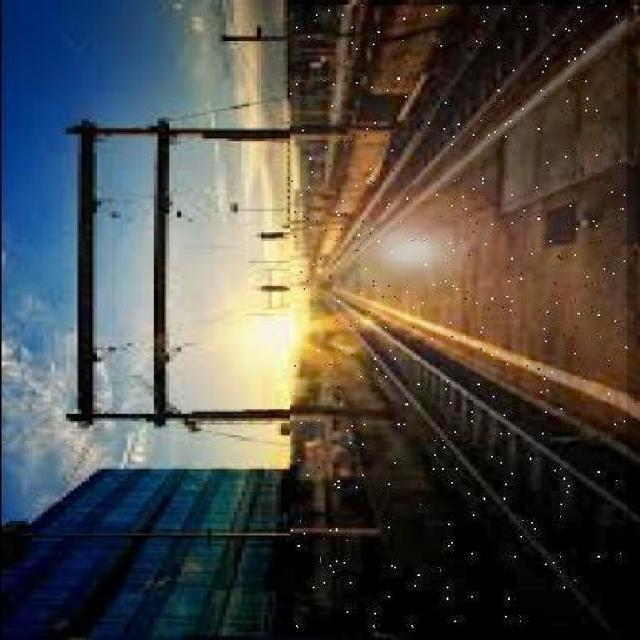rail: (291, 6, 628, 628)
